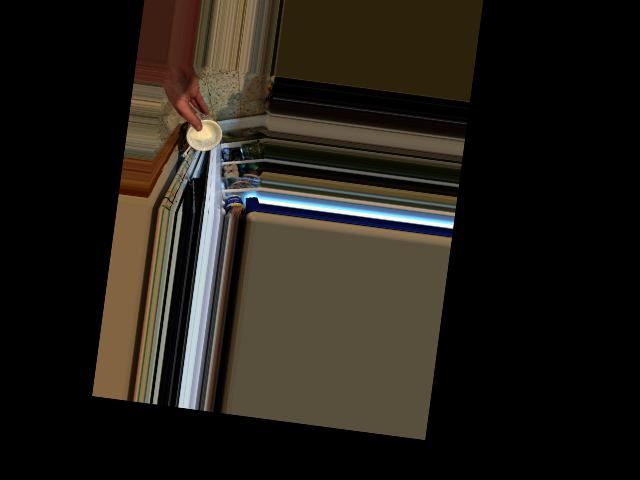cotage: (182, 108, 222, 157)
